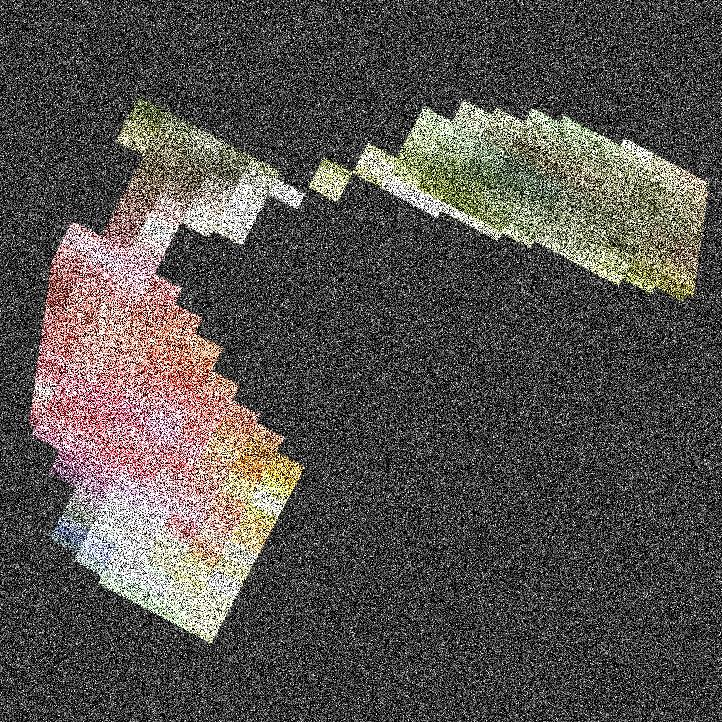Pessoa: (138, 0, 298, 721)
